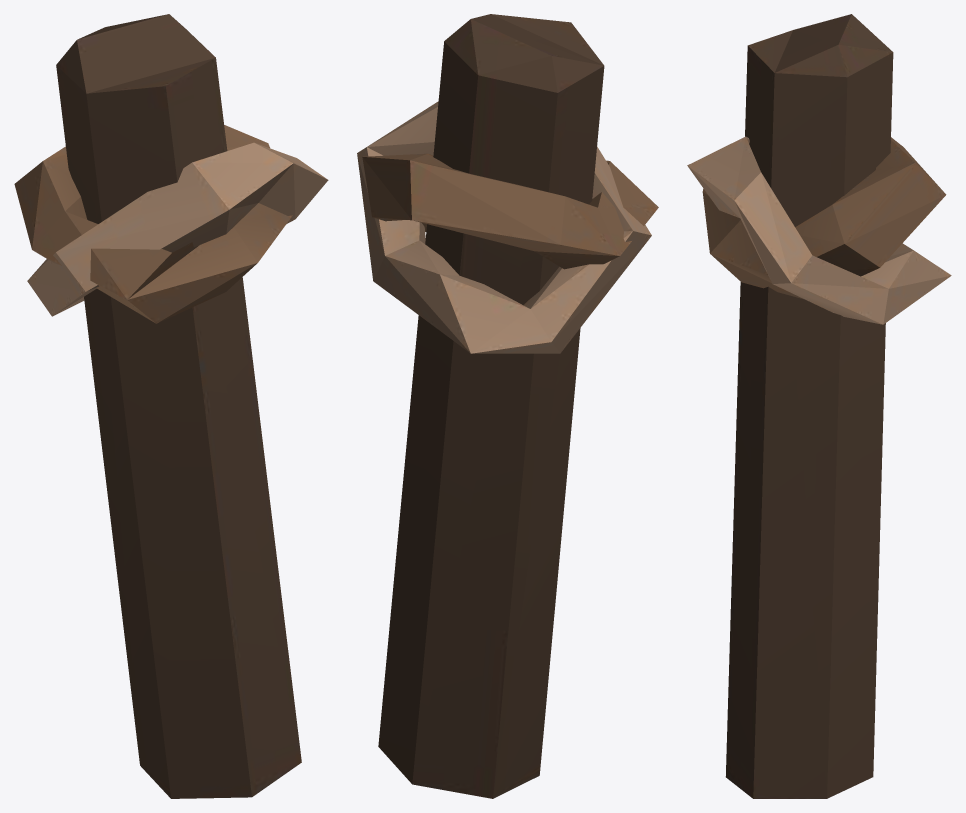
File: wooden_pin.glb
The picture shows the model from 3 angles, left to right: view 1: azimuth 30°, elevation 25°; view 2: azimuth 150°, elevation 25°; view 3: azimuth 270°, elevation 25°; orthographic projection. The views are drawn at different scales.
Parts seen in each view (by area): view 1: wooden_pin; view 2: wooden_pin; view 3: wooden_pin.
Part boxes in pixels (bbox=[...]): wooden_pin: bbox=[14, 14, 328, 798]; wooden_pin: bbox=[357, 14, 658, 798]; wooden_pin: bbox=[687, 14, 951, 798].
Size of the model in its own units: 0.2305 by 0.6 by 0.1982.
Materials: 1 (1 with a texture image).
